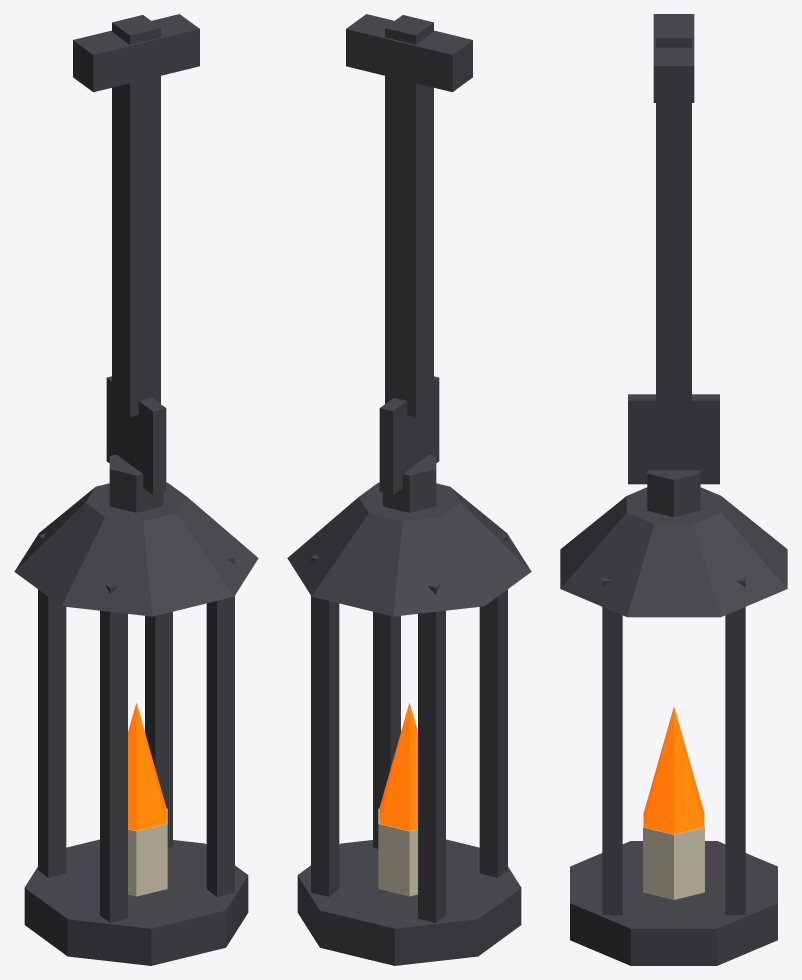
The model's file is mine_lantern_hanging.glb.
3 renders of one model, left to right at view 1: azimuth 30°, elevation 25°; view 2: azimuth 150°, elevation 25°; view 3: azimuth 270°, elevation 25°, orthographic.
Visible parts, largest first — view 1: mine_lantern_hanging; view 2: mine_lantern_hanging; view 3: mine_lantern_hanging.
Boxes of the visible parts, x1,y1,x2,y2 form: mine_lantern_hanging: [14, 14, 258, 965]; mine_lantern_hanging: [287, 14, 531, 965]; mine_lantern_hanging: [560, 14, 787, 965].
Size of what is drawn, in the model's own units: 0.2217 by 0.96 by 0.2217.
